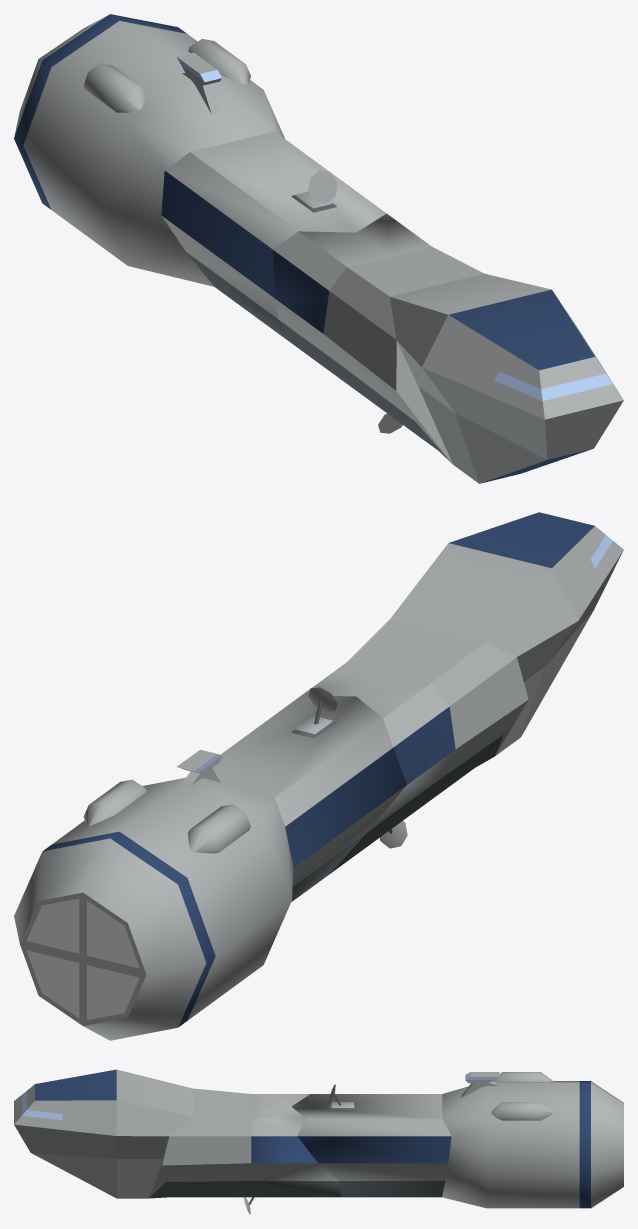
File: LancerDestroyed.fbx
3 views of the same model, one above another, from view 1: azimuth 30°, elevation 25°; view 2: azimuth 150°, elevation 25°; view 3: azimuth 270°, elevation 25° (orthographic). The views are drawn at different scales.
Visible parts, largest first — view 1: Rear, Front; view 2: Rear, Front; view 3: Rear, Front.
Boxes of the visible parts, <box> form: Rear: <box>14,14,386,343</box>; Front: <box>273,213,623,483</box>; Rear: <box>14,687,406,1040</box>; Front: <box>302,512,623,874</box>; Rear: <box>292,1072,623,1208</box>; Front: <box>14,1069,340,1214</box>.
Bounding box in the file's own units: 56.97 × 64.87 × 257.
